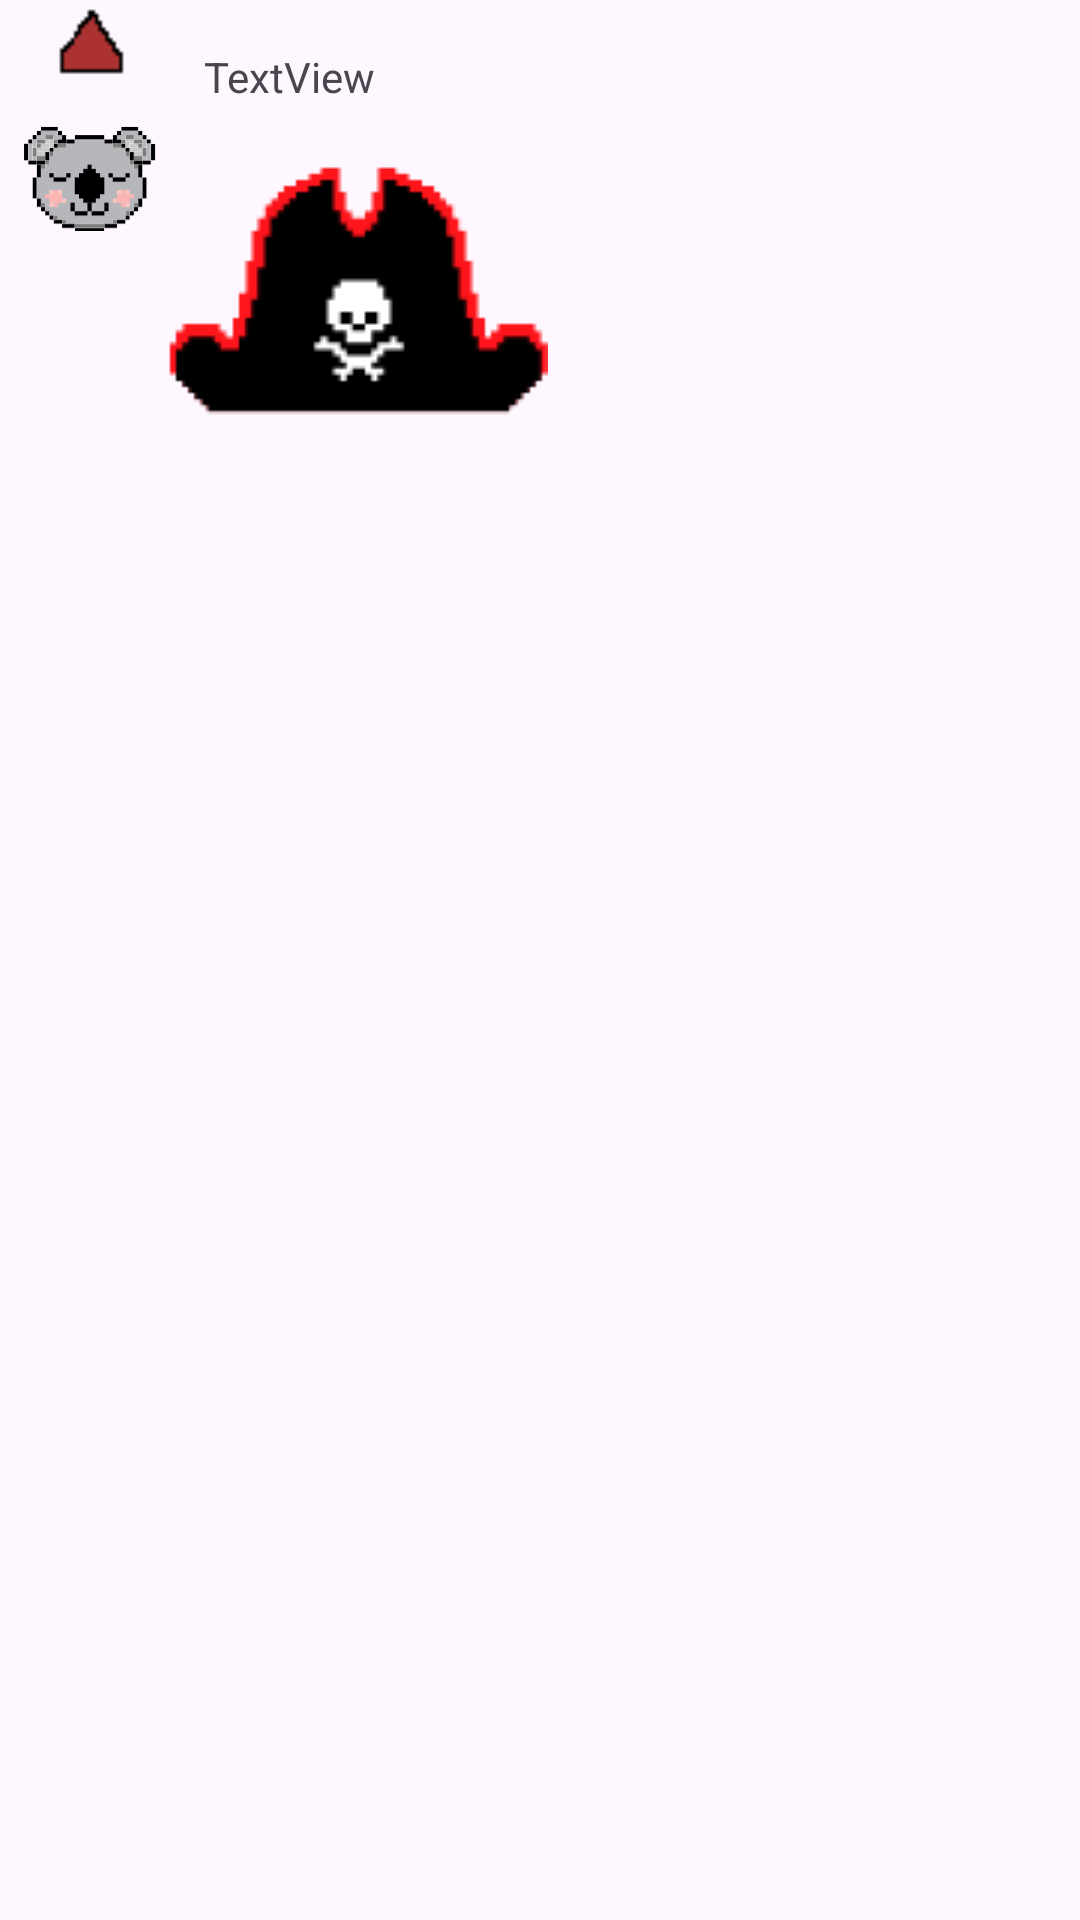

Named icons in this screenshot (1080 × 1920) and their centers, (x,y):
head: (90,179)
